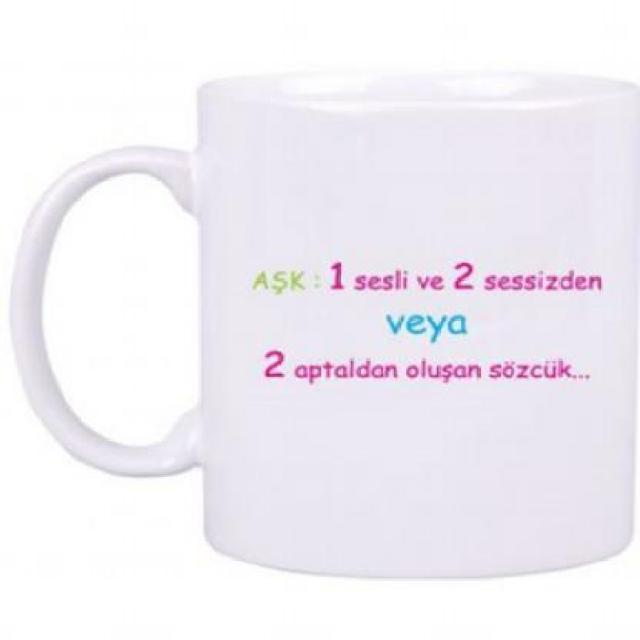taza: (4, 51, 639, 588)
